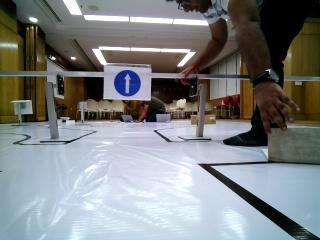straight: (100, 64, 151, 97)
